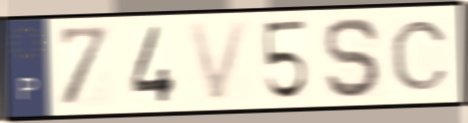4: (129, 23, 177, 105)
5: (261, 17, 310, 102)
7: (56, 23, 113, 110)
C: (388, 18, 452, 94)
S: (321, 15, 386, 101)
V: (184, 18, 253, 106)
